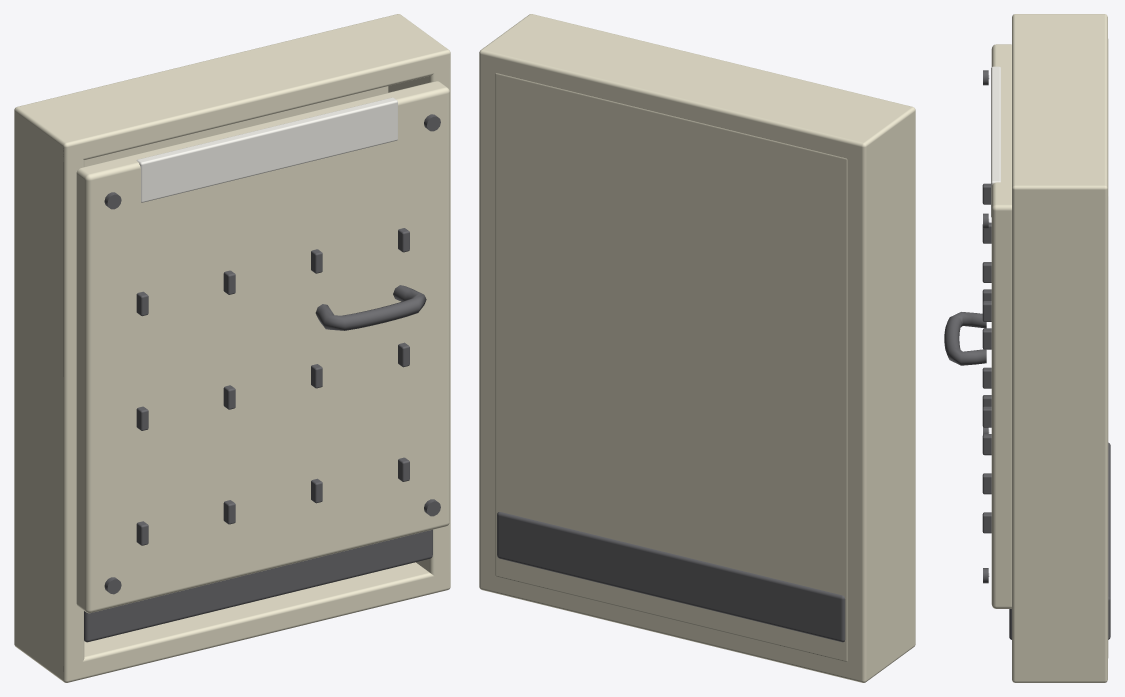
The model's file is prison-complex-builder-key-cabinet-7ffae9f8__25649.glb.
3 renders of one model, left to right at view 1: azimuth 30°, elevation 25°; view 2: azimuth 150°, elevation 25°; view 3: azimuth 270°, elevation 25°, orthographic. The views are drawn at different scales.
Visible parts, largest first — view 1: door-1/paintCream, key-cabinet, door-1/steelDark; view 2: key-cabinet; view 3: key-cabinet, door-1/paintCream, door-1/steelDark.
Boxes of the visible parts, bbox=[...] form: door-1/paintCream: bbox=[76, 81, 449, 613]; key-cabinet: bbox=[14, 14, 450, 682]; door-1/steelDark: bbox=[104, 114, 440, 594]; key-cabinet: bbox=[479, 14, 915, 682]; key-cabinet: bbox=[982, 14, 1110, 682]; door-1/paintCream: bbox=[991, 44, 1011, 608]; door-1/steelDark: bbox=[944, 70, 988, 583].
Bounding box in the file's own units: 0.6 × 0.8 × 0.2426.
